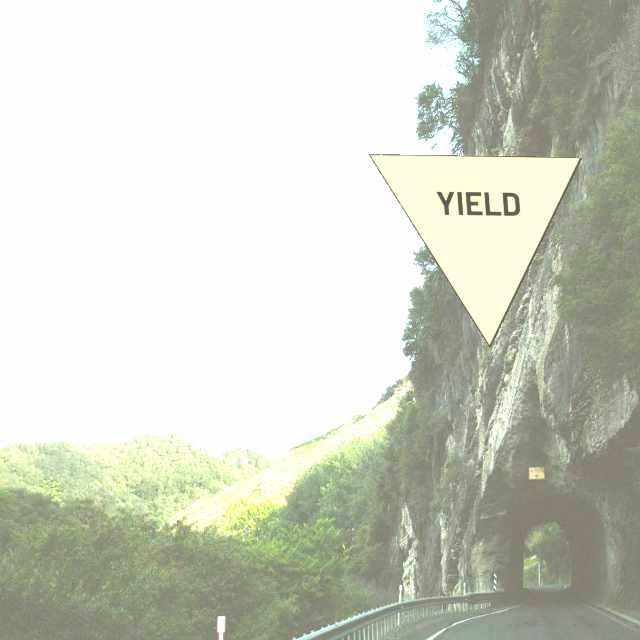YIELD: (368, 154, 582, 348)
